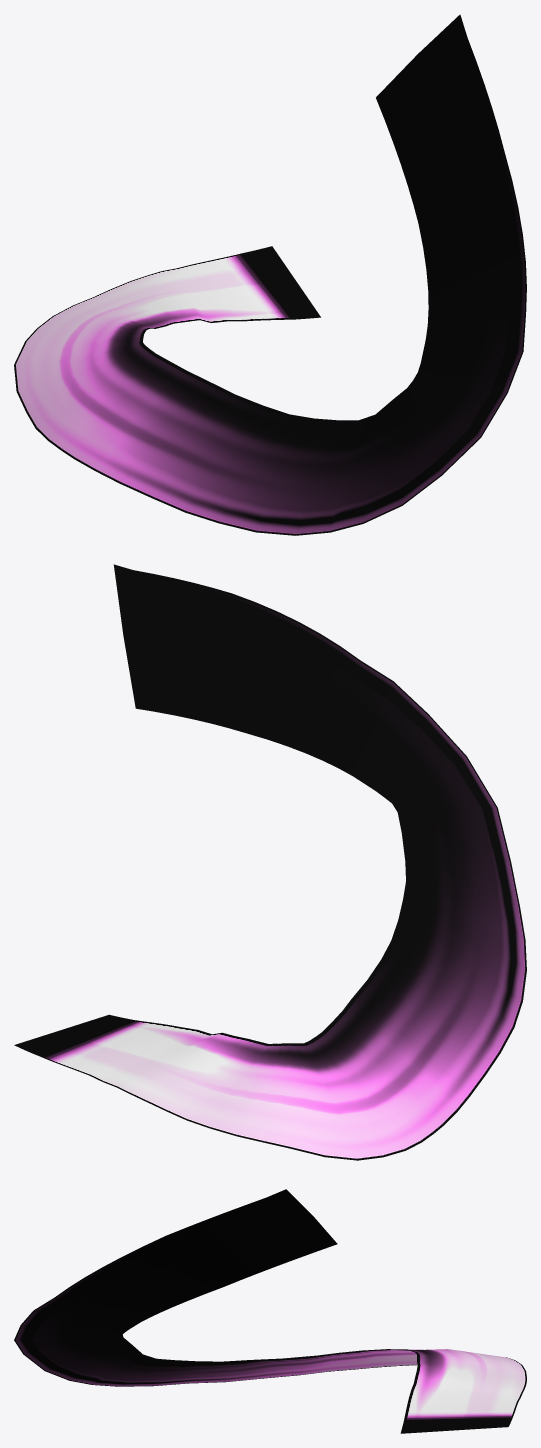
Rendered from Mesh_Snowwhite_001_jlz.FBX.
3 views of the same model, one above another, from view 1: azimuth 30°, elevation 25°; view 2: azimuth 150°, elevation 25°; view 3: azimuth 270°, elevation 25° (orthographic). The views are drawn at different scales.
Visible parts, largest first — view 1: Plane001; view 2: Plane001; view 3: Plane001.
Boxes of the visible parts, x1,y1,x2,y2 form: Plane001: (14, 14, 526, 535); Plane001: (14, 564, 526, 1160); Plane001: (14, 1189, 526, 1433).
Size of the model in its own units: 194 by 212 by 312.
Materials: 1 (1 with a texture image).
